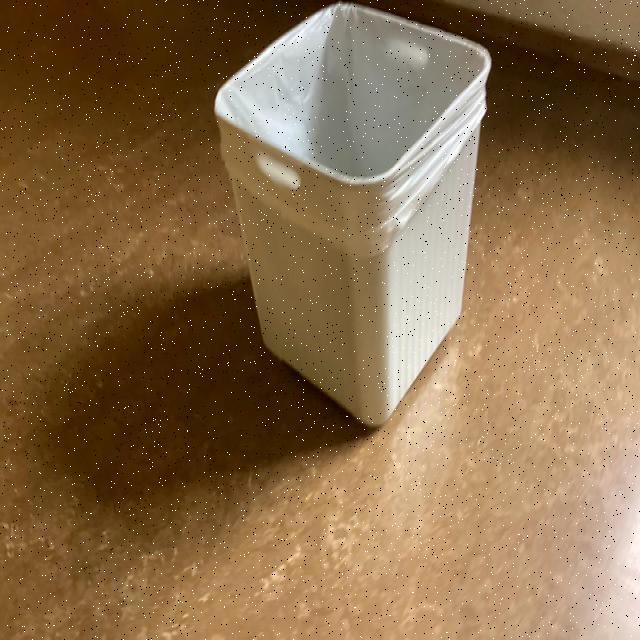garbage container: (200, 0, 513, 443)
